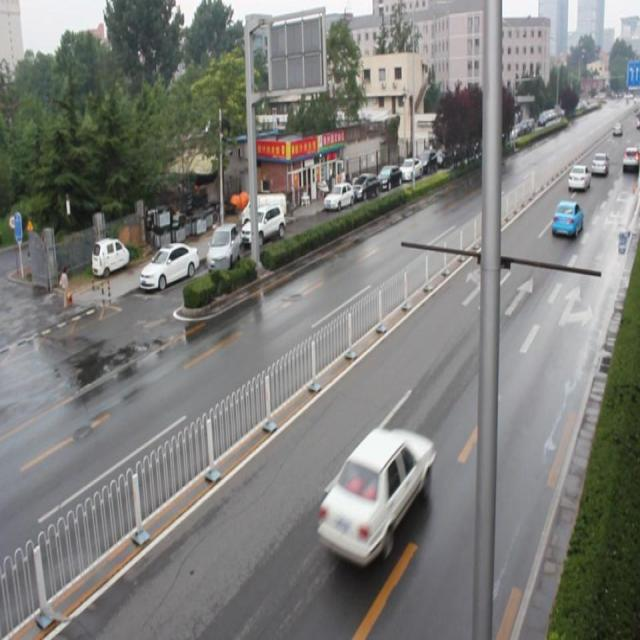car: (318, 426, 435, 565), (550, 196, 582, 238)
